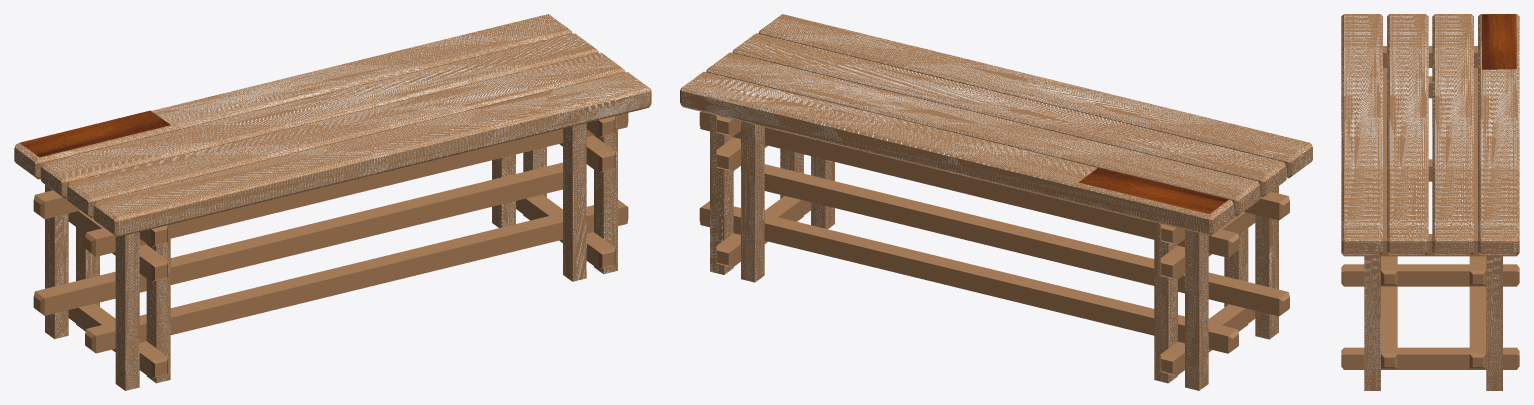
The picture shows the model from 3 angles, left to right: view 1: azimuth 30°, elevation 25°; view 2: azimuth 150°, elevation 25°; view 3: azimuth 270°, elevation 25°; orthographic projection. The views are drawn at different scales.
Visible parts, largest first — view 1: mesh8_mesh8-geometry, mesh4_mesh4-geometry, mesh2_mesh2-geometry, mesh5_mesh5-geometry, mesh7_mesh7-geometry, mesh6_mesh6-geometry, mesh9_mesh9-geometry; view 2: mesh8_mesh8-geometry, mesh2_mesh2-geometry, mesh4_mesh4-geometry, mesh5_mesh5-geometry, mesh6_mesh6-geometry, mesh7_mesh7-geometry, mesh9_mesh9-geometry; view 3: mesh8_mesh8-geometry, mesh7_mesh7-geometry, mesh6_mesh6-geometry, mesh2_mesh2-geometry, mesh4_mesh4-geometry, mesh9_mesh9-geometry.
Boxes of the visible parts, left/top/right/bottom form: mesh8_mesh8-geometry: left=14, top=14, right=651, bottom=237; mesh4_mesh4-geometry: left=85, top=113, right=628, bottom=353; mesh2_mesh2-geometry: left=33, top=162, right=562, bottom=315; mesh5_mesh5-geometry: left=45, top=123, right=586, bottom=390; mesh7_mesh7-geometry: left=68, top=116, right=615, bottom=378; mesh6_mesh6-geometry: left=76, top=115, right=617, bottom=383; mesh9_mesh9-geometry: left=19, top=110, right=170, bottom=157; mesh8_mesh8-geometry: left=680, top=14, right=1312, bottom=235; mesh2_mesh2-geometry: left=699, top=111, right=1238, bottom=353; mesh4_mesh4-geometry: left=764, top=164, right=1289, bottom=316; mesh5_mesh5-geometry: left=741, top=121, right=1278, bottom=390; mesh6_mesh6-geometry: left=710, top=114, right=1248, bottom=383; mesh7_mesh7-geometry: left=716, top=115, right=1255, bottom=375; mesh9_mesh9-geometry: left=1078, top=168, right=1228, bottom=213; mesh8_mesh8-geometry: left=1341, top=14, right=1519, bottom=255; mesh7_mesh7-geometry: left=1341, top=46, right=1519, bottom=369; mesh6_mesh6-geometry: left=1364, top=255, right=1502, bottom=390; mesh2_mesh2-geometry: left=1469, top=68, right=1486, bottom=368; mesh4_mesh4-geometry: left=1381, top=68, right=1397, bottom=368; mesh9_mesh9-geometry: left=1481, top=14, right=1516, bottom=69.
Bounding box in the file's own units: 0.8602 × 0.2879 × 0.287.
